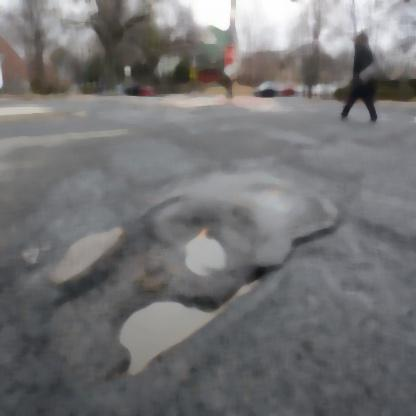Potholes: (114, 285, 216, 371), (183, 226, 232, 284)
